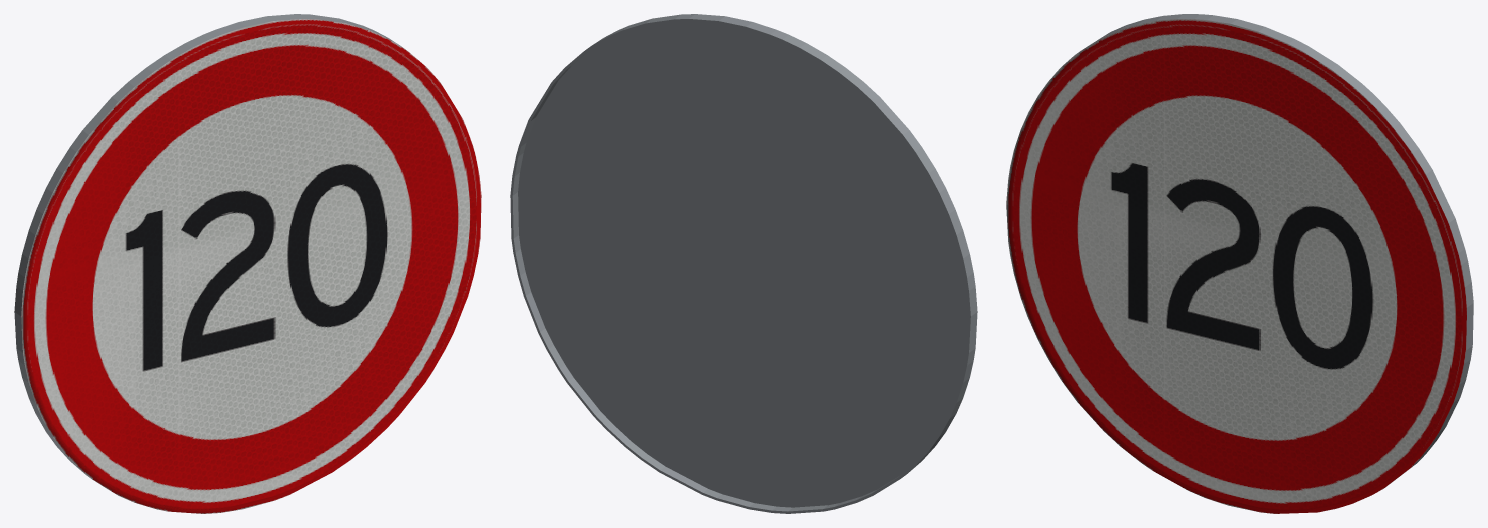
3 renders of one model, left to right at view 1: azimuth 30°, elevation 25°; view 2: azimuth 150°, elevation 25°; view 3: azimuth 330°, elevation 25°, orthographic.
Visible parts, largest first — view 1: cat_9dec863d9df494f1; view 2: cat_9dec863d9df494f1; view 3: cat_9dec863d9df494f1.
Part boxes in pixels (x1,y1,x2,y2): cat_9dec863d9df494f1: [14, 14, 481, 513]; cat_9dec863d9df494f1: [510, 14, 977, 513]; cat_9dec863d9df494f1: [1006, 14, 1473, 513].
Size of the model in its own units: 0.6 by 0.015 by 0.6.
2 materials, 1 textured.
